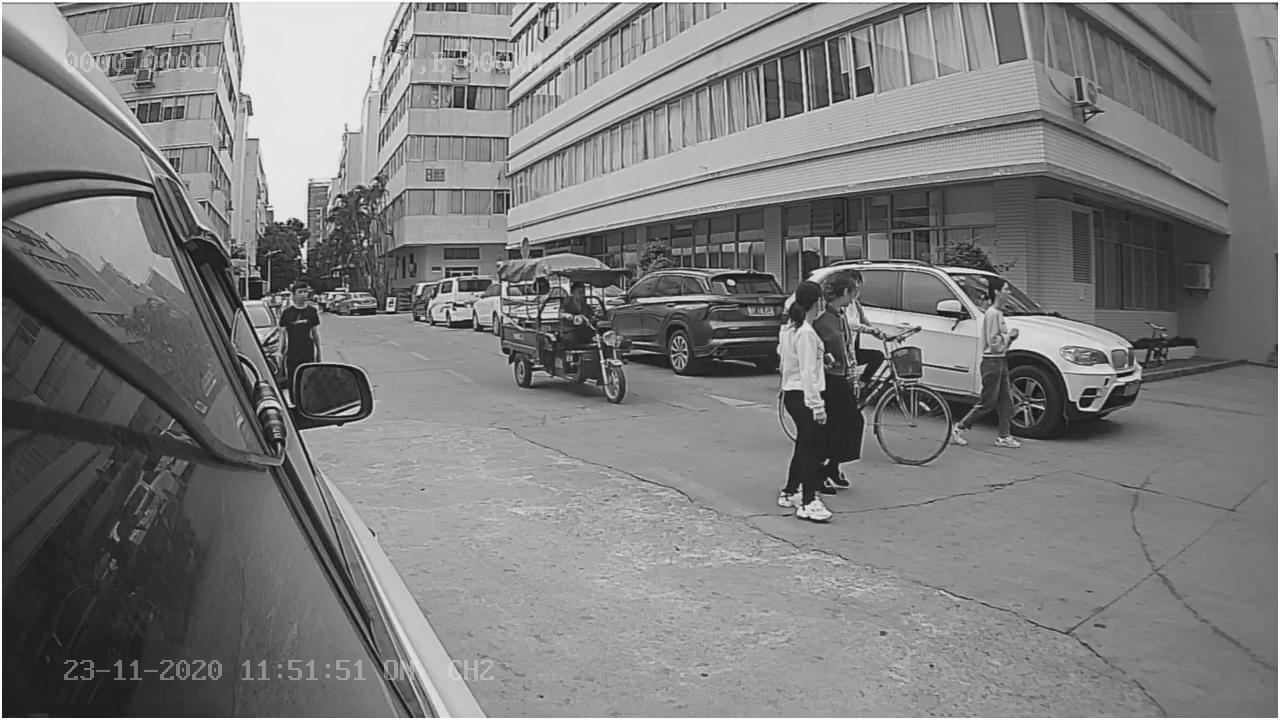person: (756, 282, 845, 527), (947, 270, 1033, 454)
